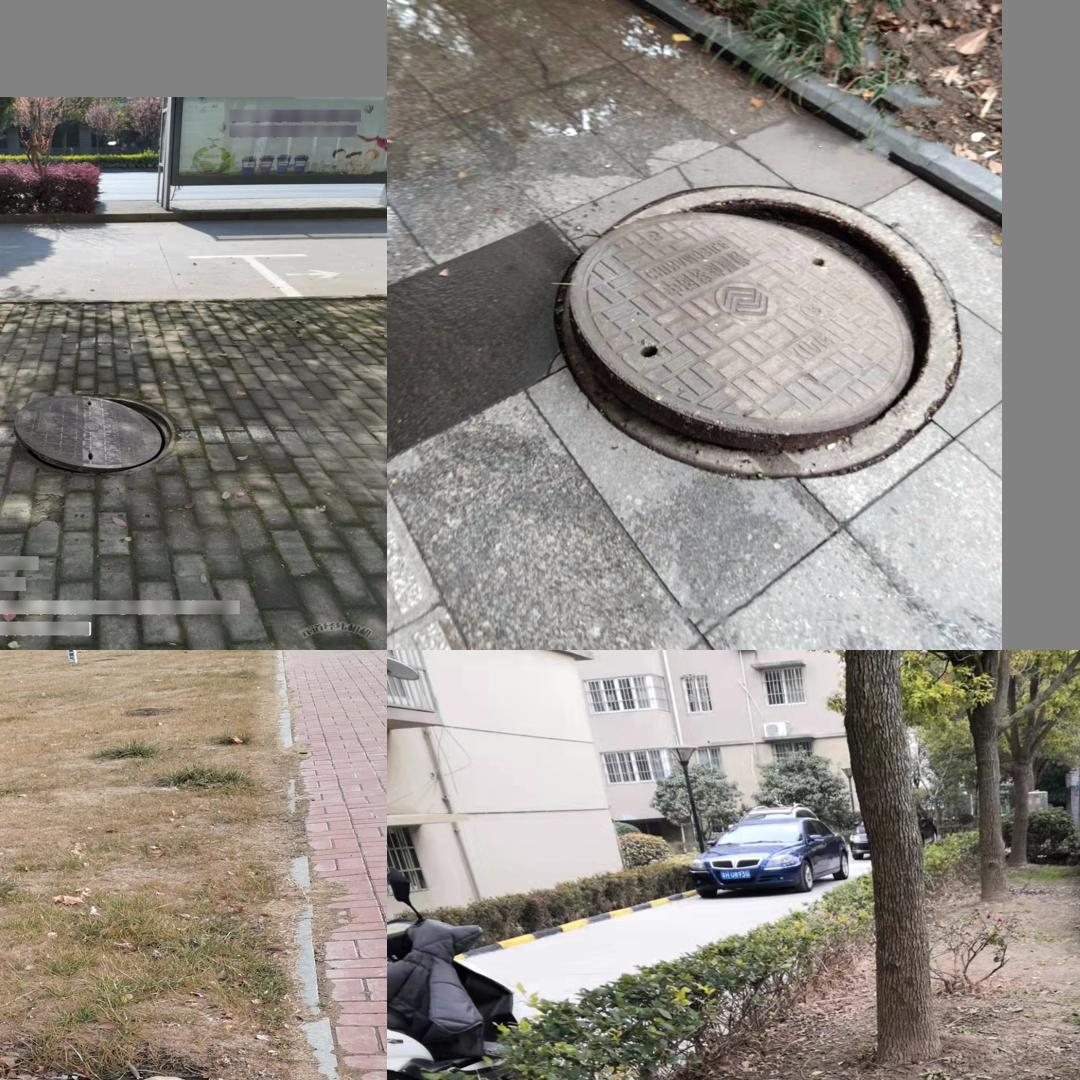uncovered: (553, 185, 961, 475), (13, 394, 175, 474), (0, 1071, 213, 1080)
